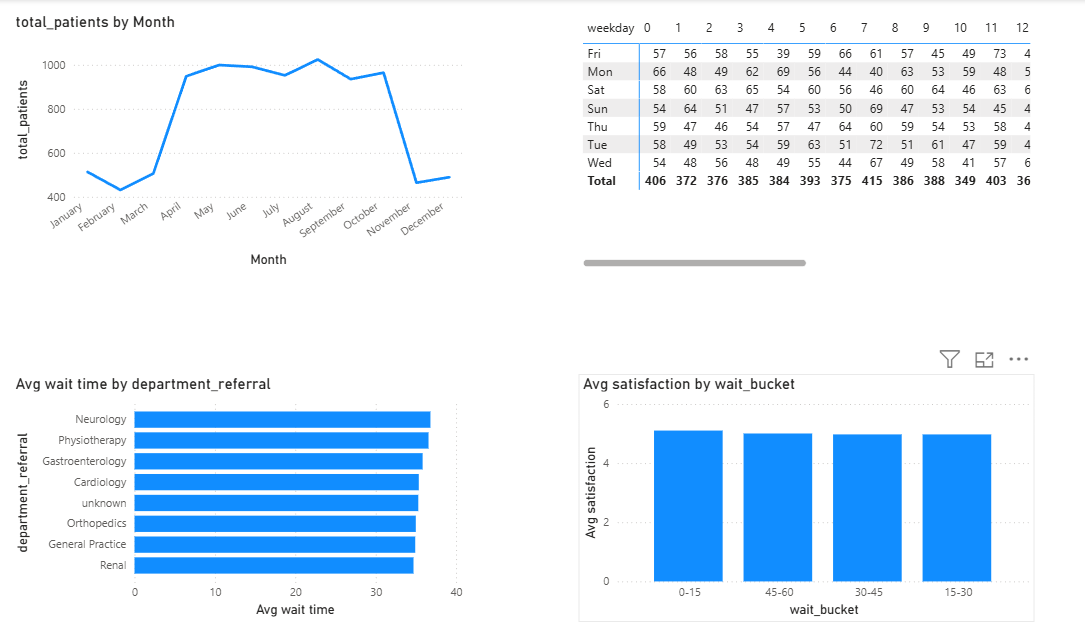

Layout of this report page (visuals, bound fields, positions):
{"tool":"powerbi","page":{"name":"trend charts","canvas":[1280,720],"ordinal":1},"visuals":[{"type":"lineChart","fields":{"Category":["Date_table.Date.Variation.Date Hierarchy.Month","Date_table.Date.Variation.Date Hierarchy.Day"],"Y":["_measures.total_patients"]},"box":[16.5,15.1,500.9,284],"z":0},{"type":"clusteredBarChart","fields":{"Category":["hospital_er_clean.department_referral"],"Y":["_measures.Avg wait time"]},"box":[16.5,411.7,500.9,271.7],"z":1000},{"type":"pivotTable","fields":{"Rows":["Date_table.weekday"],"Columns":["hospital_er_clean.hour"],"Values":["_measures.total_patients"]},"box":[639.5,15.1,500.9,284],"z":2000},{"type":"columnChart","fields":{"Category":["hospital_er_clean.wait_bucket"],"Y":["_measures.Avg satisfaction"]},"box":[639.5,411.7,500.9,271.7],"z":3000}]}

Visuals, with their boxes in screenshot pixels (x1, y1, x2, y2), scaled from the page's 1280x720 canvas onto the 1085x626 screenshot:
lineChart - Date_table.Date.Variation.Date Hierarchy.Month x Date_table.Date.Variation.Date Hierarchy.Day: 14, 13, 439, 260
clusteredBarChart - hospital_er_clean.department_referral x _measures.Avg wait time: 14, 358, 439, 594
pivotTable - Date_table.weekday x hospital_er_clean.hour: 542, 13, 967, 260
columnChart - hospital_er_clean.wait_bucket x _measures.Avg satisfaction: 542, 358, 967, 594
